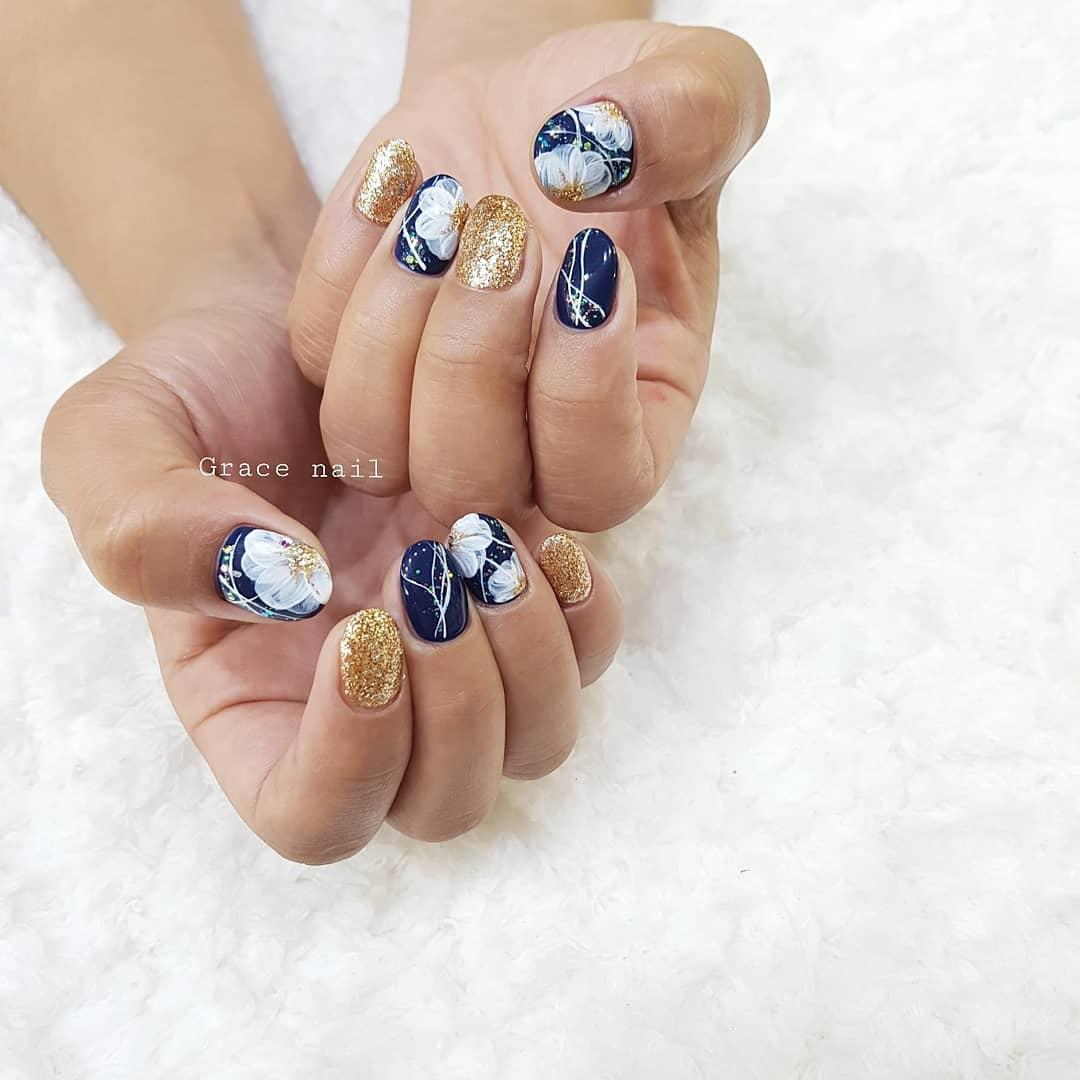nail: (213, 521, 333, 622), (531, 96, 637, 204), (393, 172, 468, 275), (397, 537, 469, 643), (550, 225, 619, 331), (454, 193, 527, 291), (337, 606, 405, 711), (352, 137, 419, 225), (535, 530, 593, 608)
